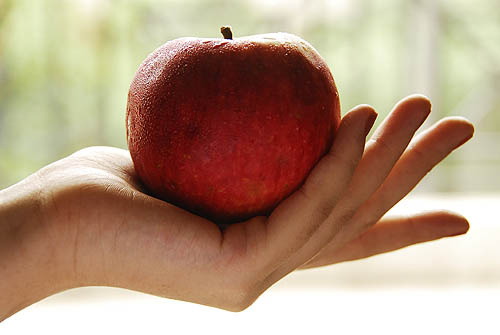apple: (126, 25, 341, 222)
